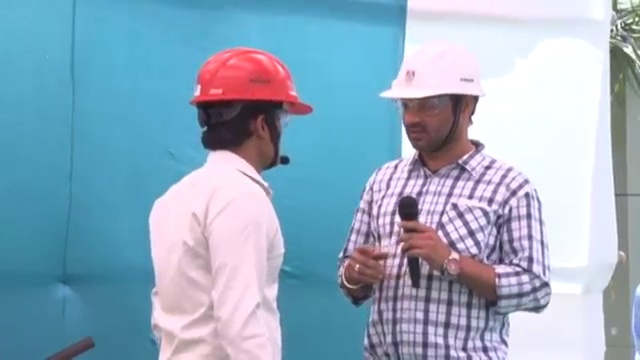helmet: (189, 45, 314, 117), (376, 38, 487, 102)
helmet_on: (187, 44, 315, 179), (371, 37, 490, 166)
person: (338, 37, 551, 360), (143, 45, 317, 360)
